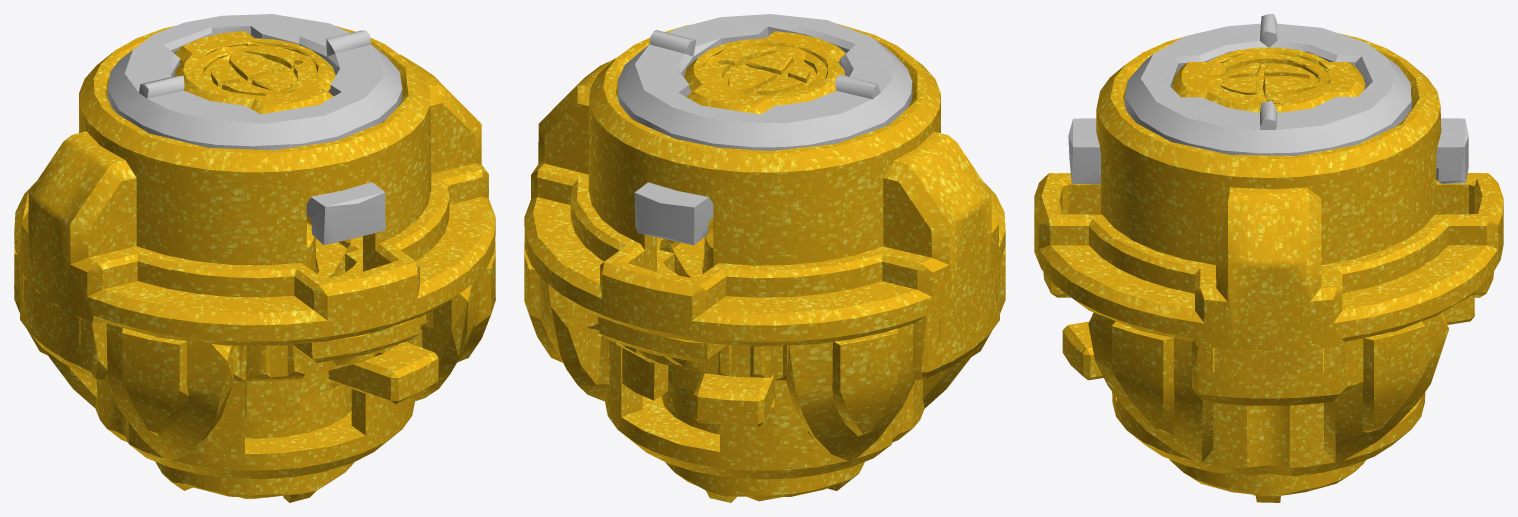
File: atomicsgeo_guarddraciel.fbx
3 views of the same model, side by side, from view 1: azimuth 30°, elevation 25°; view 2: azimuth 150°, elevation 25°; view 3: azimuth 270°, elevation 25° (orthographic). The views are drawn at different scales.
Visible parts, largest first — view 1: GuardDracielS_AtomicS_Tip; view 2: GuardDracielS_AtomicS_Tip; view 3: GuardDracielS_AtomicS_Tip.
Part boxes in pixels (x1,y1,x2,y2): GuardDracielS_AtomicS_Tip: (14,14,495,502); GuardDracielS_AtomicS_Tip: (524,14,1005,502); GuardDracielS_AtomicS_Tip: (1034,14,1503,502).
Bounding box in the file's own units: 0.2667 × 0.2656 × 0.2663.
